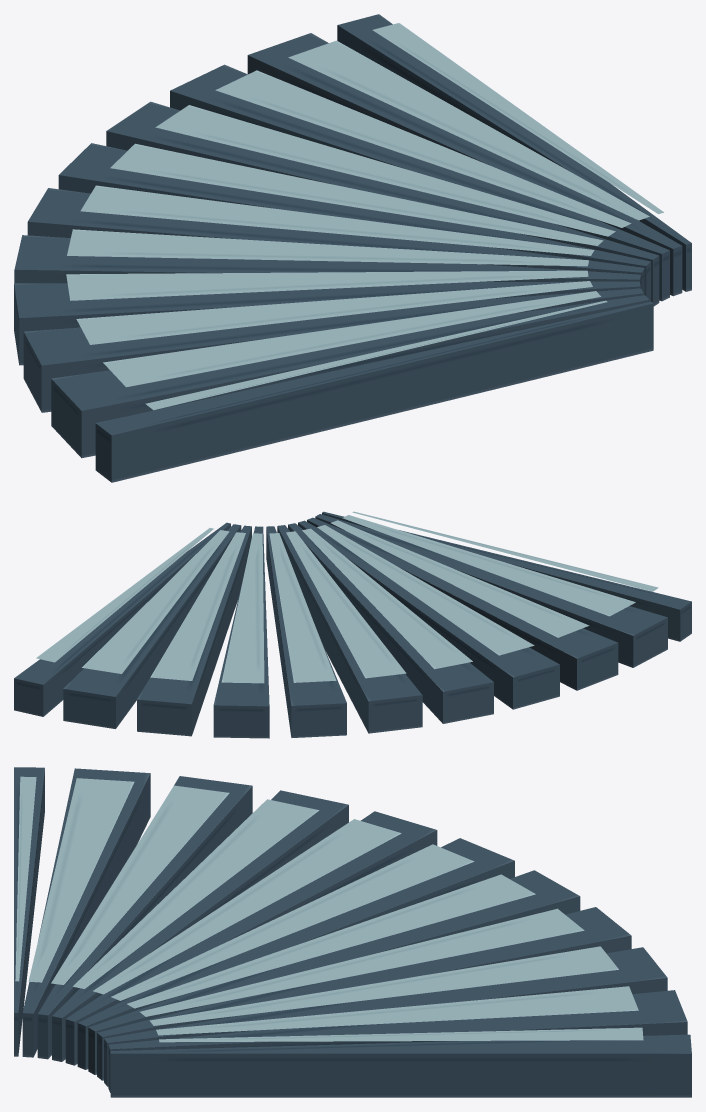
The model's file is sc_tread_curve_right_17.obj.
3 views of the same model, one above another, from view 1: azimuth 30°, elevation 25°; view 2: azimuth 150°, elevation 25°; view 3: azimuth 270°, elevation 25° (orthographic). The views are drawn at different scales.
Bounding box in the file's own units: 17.5 × 1.56 × 17.5.
Materials: 1 (1 with a texture image).
